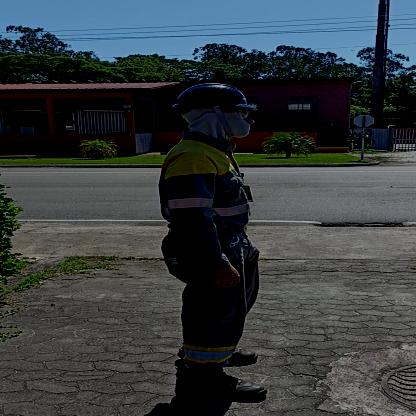Balaclava: (180, 106, 255, 143)
Capacete: (176, 79, 254, 107)
